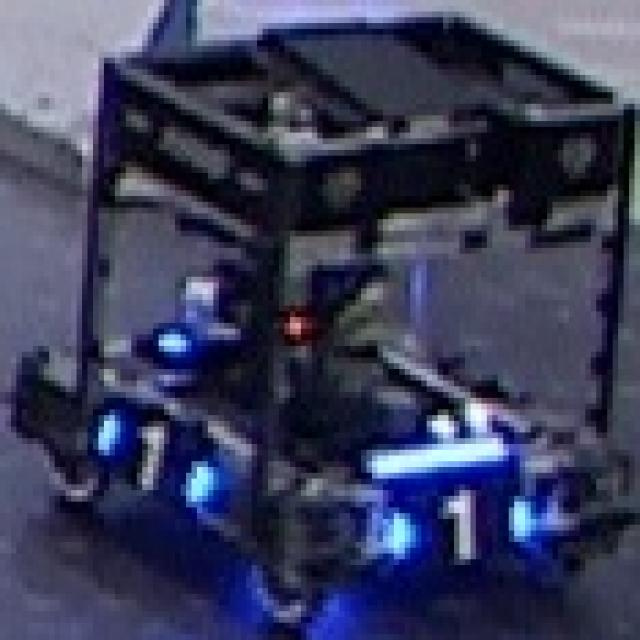B1: (88, 403, 214, 508), (383, 479, 536, 559)
